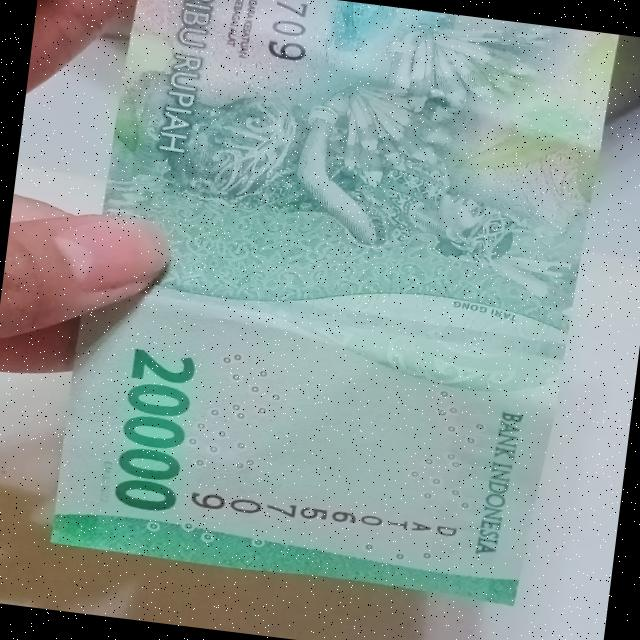20K: (41, 0, 638, 617)
